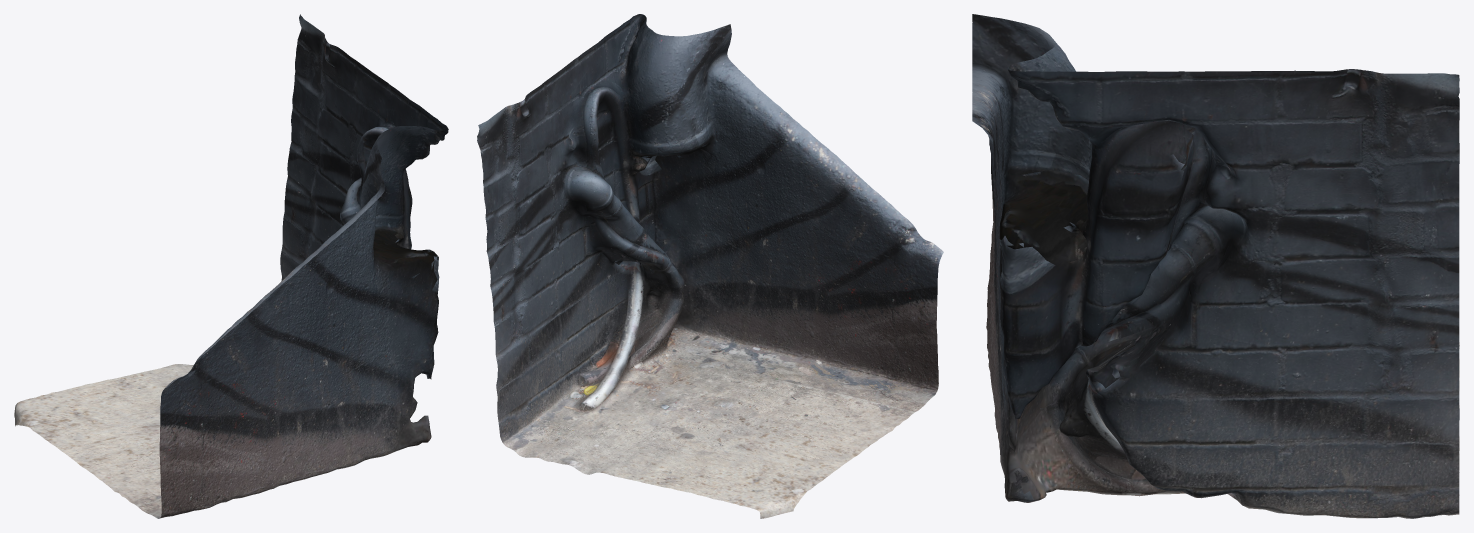
File: Inside_Corner_Demo.fbx
3 renders of one model, left to right at view 1: azimuth 30°, elevation 25°; view 2: azimuth 150°, elevation 25°; view 3: azimuth 270°, elevation 25°, orthographic. The views are drawn at different scales.
Visible parts, largest first — view 1: Model; view 2: Model; view 3: Model.
Part boxes in pixels (box(x1,y1,x2,y2)): Model: box(14, 14, 448, 518); Model: box(477, 14, 943, 518); Model: box(972, 14, 1459, 518).
Bounding box in the file's own units: 9.72 × 10.04 × 9.34.
